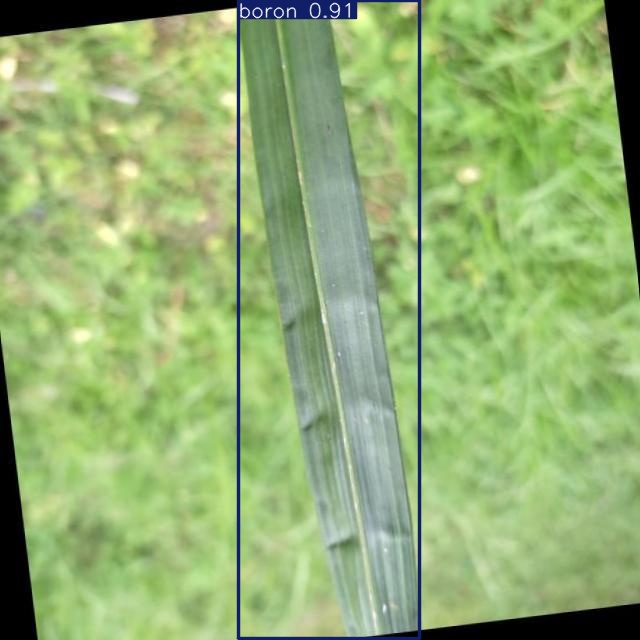nitrogen: (238, 1, 419, 638)
